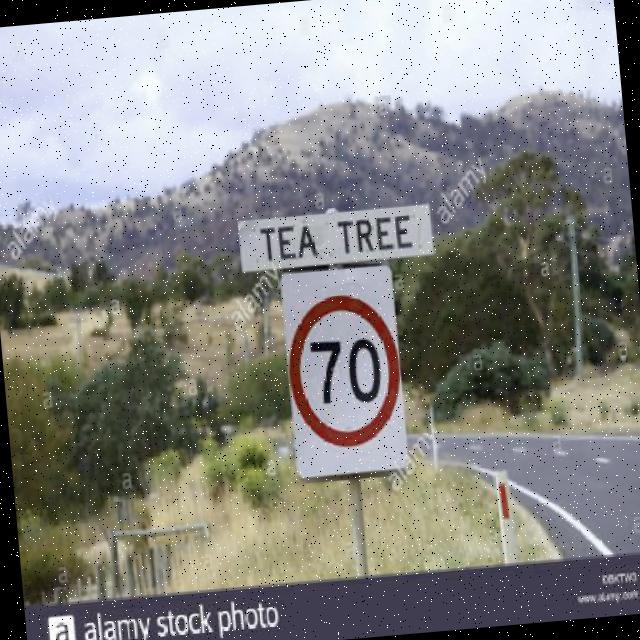Ograniczenie predkosci do 70: (282, 286, 411, 454)
